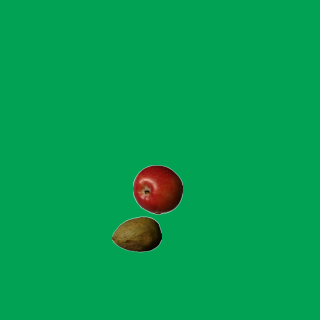Apple Braeburn: (132, 164, 182, 214)
Papaya: (111, 209, 161, 259)
